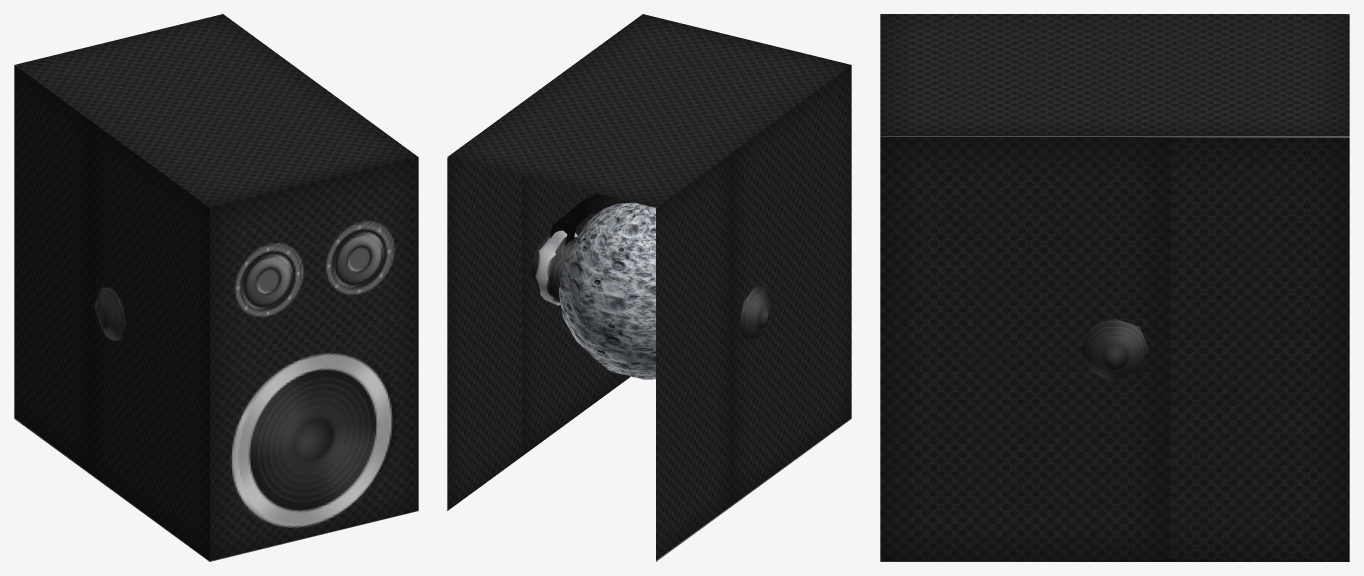
The model's file is moon_and _speeker.fbx.
3 renders of one model, left to right at view 1: azimuth 30°, elevation 25°; view 2: azimuth 150°, elevation 25°; view 3: azimuth 270°, elevation 25°, orthographic. The views are drawn at different scales.
Parts seen in each view (by area): view 1: speeker, headphones; view 2: speeker, moon, headphones; view 3: speeker, headphones.
Part boxes in pixels (x1,y1,x2,y2): speeker: (14,14,418,561); headphones: (94,287,126,340); speeker: (447,14,851,561); moon: (558,202,655,379); headphones: (531,193,771,340); speeker: (880,14,1349,561); headphones: (1081,318,1148,381).
Size of the model in its own units: 5.87 by 8.39 by 8.39.
